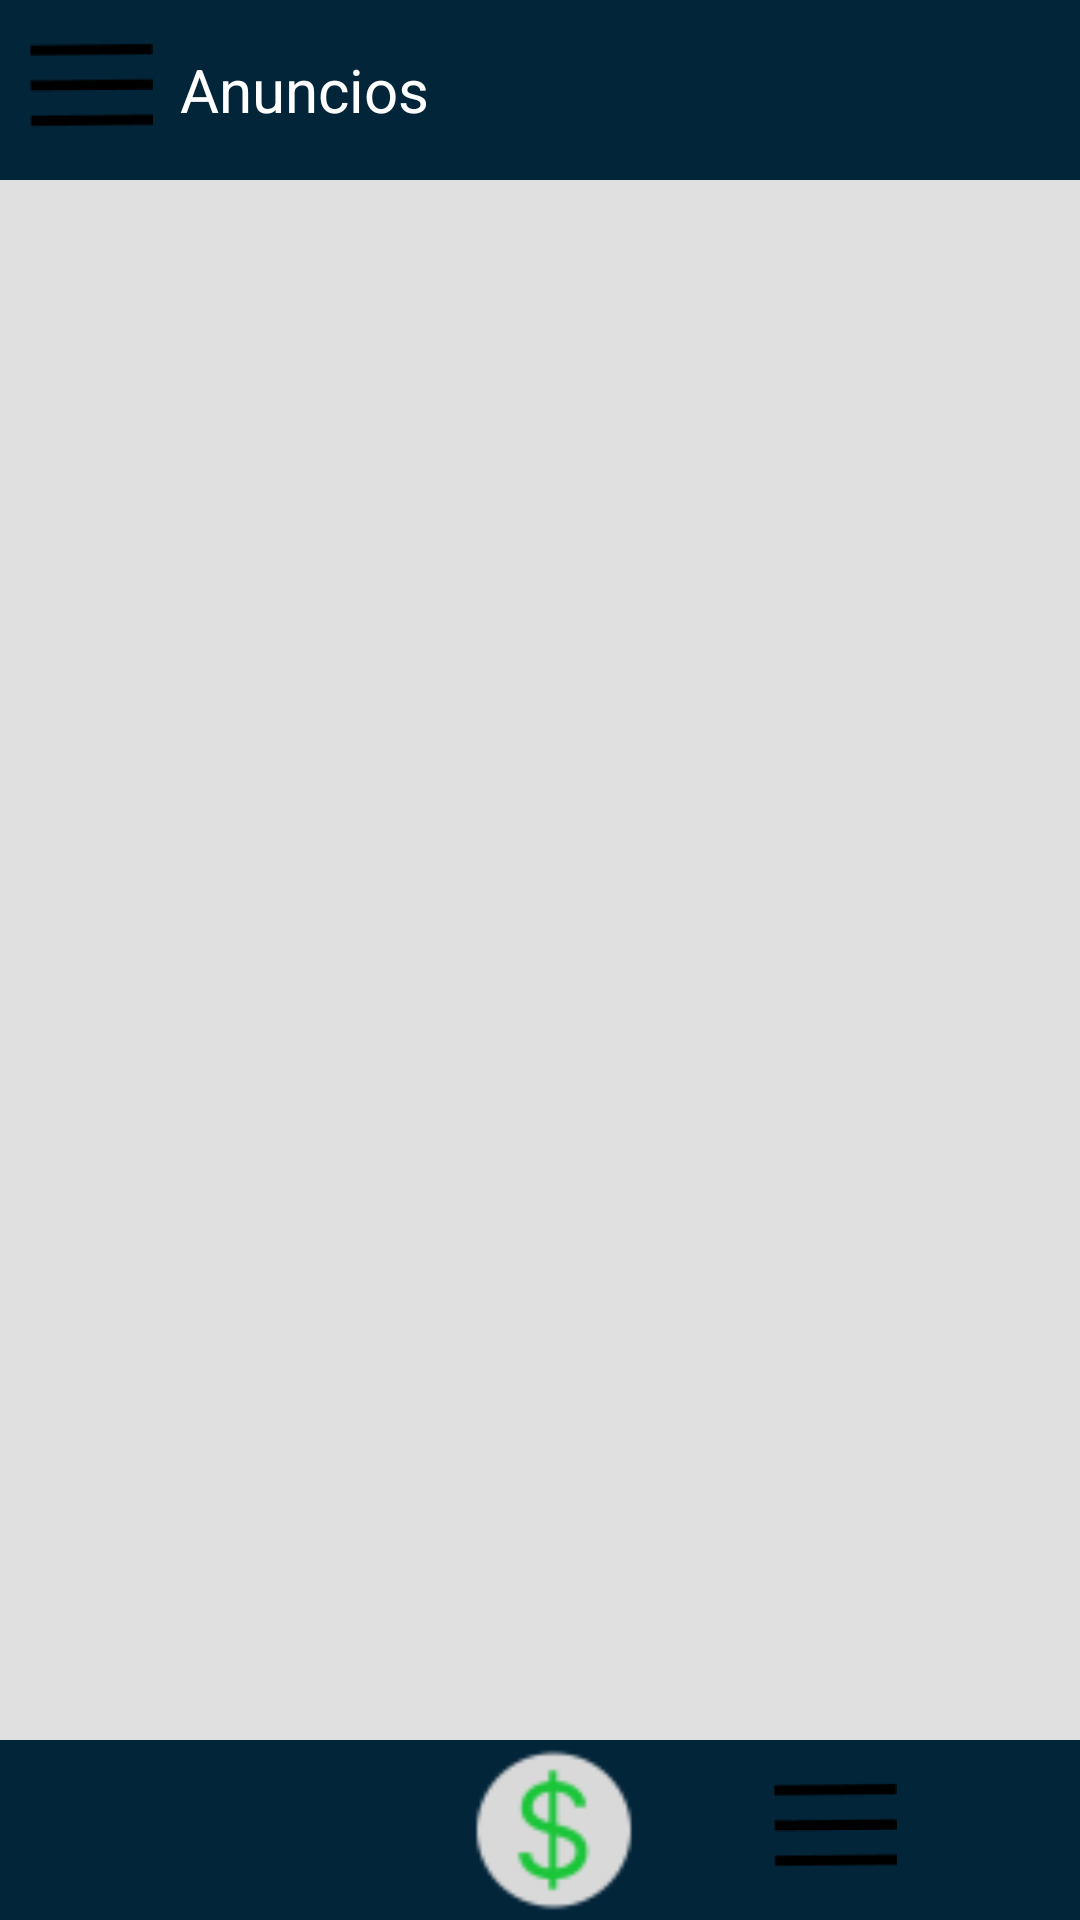

Icon bounding boxes for this 1080 × 1920 phone screenshot, format box(x1, y1, x2, y2):
menu: box(30, 44, 153, 126), box(774, 1784, 897, 1866)
pagamento: box(476, 1750, 632, 1910)
